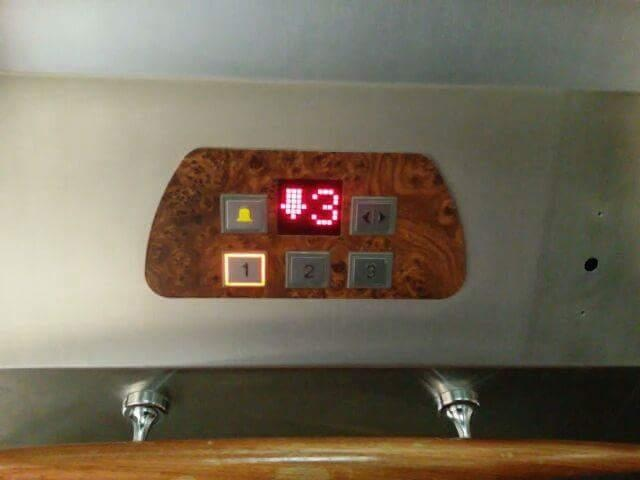1: (222, 250, 268, 288)
2: (285, 251, 330, 290)
3: (348, 251, 393, 291)
alarm: (217, 190, 269, 237)
led: (274, 175, 346, 238)
open: (351, 195, 398, 237)
